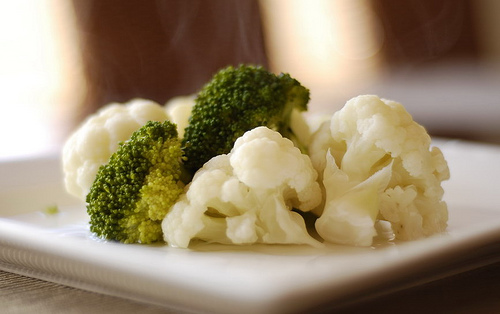cauliflower: (307, 95, 449, 247), (162, 126, 326, 250), (171, 64, 313, 195), (60, 98, 169, 209), (167, 96, 194, 134)
